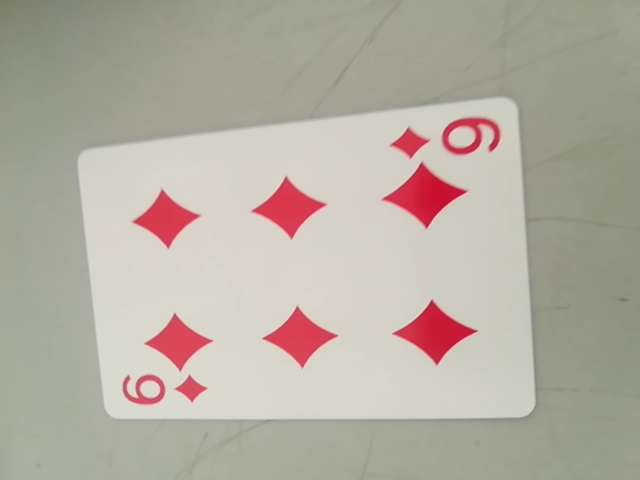fk 6: (392, 112, 506, 165), (116, 365, 208, 415)
